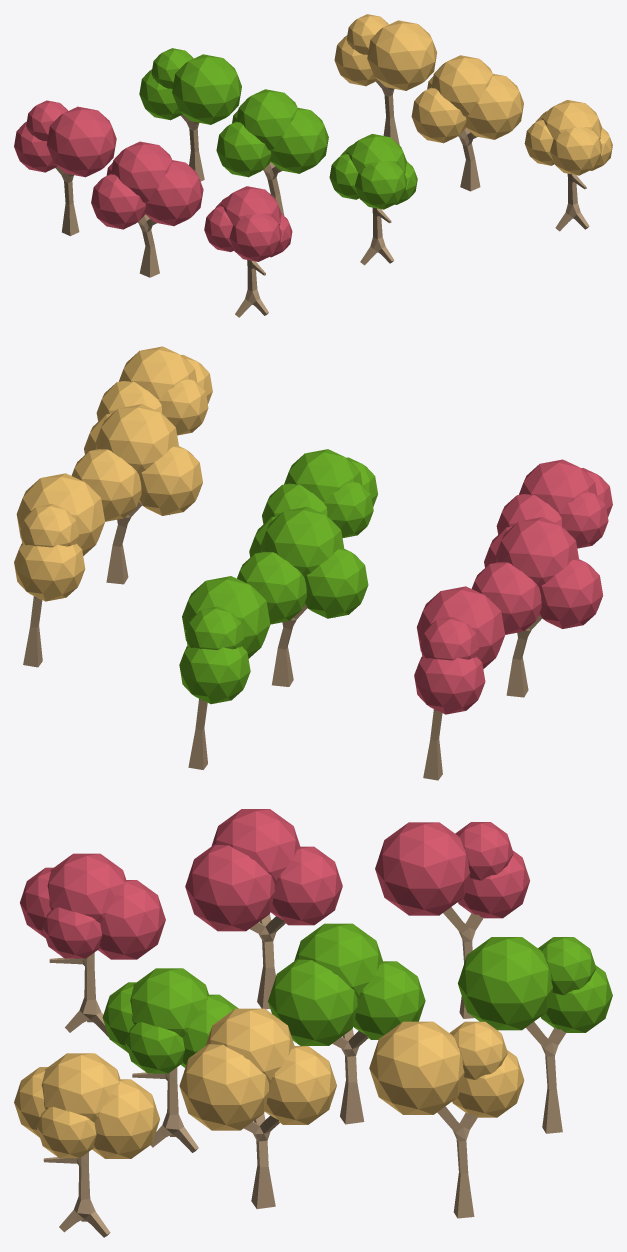
Rendered from Trees.fbx.
The picture shows the model from 3 angles, top to bottom: view 1: azimuth 30°, elevation 25°; view 2: azimuth 150°, elevation 25°; view 3: azimuth 270°, elevation 25°; orthographic projection. The views are drawn at different scales.
Parts seen in each view (by area): view 1: Icosphere.027, Icosphere.003, Cube.007, Icosphere.024, Cube.006, Icosphere.001, Icosphere.031, Cube.008, Icosphere.007; view 2: Icosphere.027, Cube.007, Icosphere.003, Icosphere.024, Icosphere.001, Cube.006, Cube.008, Icosphere.007, Icosphere.031; view 3: Icosphere.003, Icosphere.027, Cube.007, Icosphere.001, Cube.006, Icosphere.024, Icosphere.007, Icosphere.031, Cube.008.
Part boxes in pixels (left/top/right/bottom): Icosphere.027: left=91, top=141, right=203, bottom=277; Icosphere.003: left=411, top=55, right=523, bottom=191; Cube.007: left=216, top=89, right=328, bottom=215; Icosphere.024: left=14, top=100, right=116, bottom=236; Cube.006: left=139, top=48, right=241, bottom=181; Icosphere.001: left=334, top=14, right=437, bottom=145; Icosphere.031: left=204, top=186, right=292, bottom=317; Cube.008: left=329, top=134, right=417, bottom=265; Icosphere.007: left=524, top=100, right=612, bottom=231; Icosphere.027: left=471, top=517, right=603, bottom=697; Cube.007: left=237, top=506, right=368, bottom=686; Icosphere.003: left=71, top=404, right=202, bottom=584; Icosphere.024: left=414, top=586, right=505, bottom=780; Icosphere.001: left=14, top=473, right=104, bottom=667; Cube.006: left=179, top=576, right=270, bottom=769; Cube.008: left=262, top=449, right=377, bottom=617; Icosphere.007: left=96, top=346, right=212, bottom=514; Icosphere.031: left=496, top=459, right=612, bottom=548; Icosphere.003: left=179, top=1008, right=336, bottom=1208; Icosphere.027: left=185, top=809, right=342, bottom=1009; Cube.007: left=268, top=923, right=425, bottom=1124; Icosphere.001: left=369, top=1021, right=524, bottom=1218; Cube.006: left=458, top=937, right=612, bottom=1133; Icosphere.024: left=375, top=822, right=529, bottom=1018; Icosphere.007: left=14, top=1053, right=159, bottom=1237; Icosphere.031: left=20, top=853, right=165, bottom=1037; Cube.008: left=102, top=968, right=238, bottom=1152.
Bounding box in the file's own units: 3505 × 1235 × 2973.
